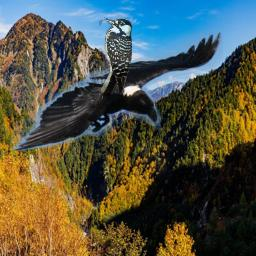Crow: (12, 29, 223, 151)
Woodpecker: (99, 17, 132, 105)
